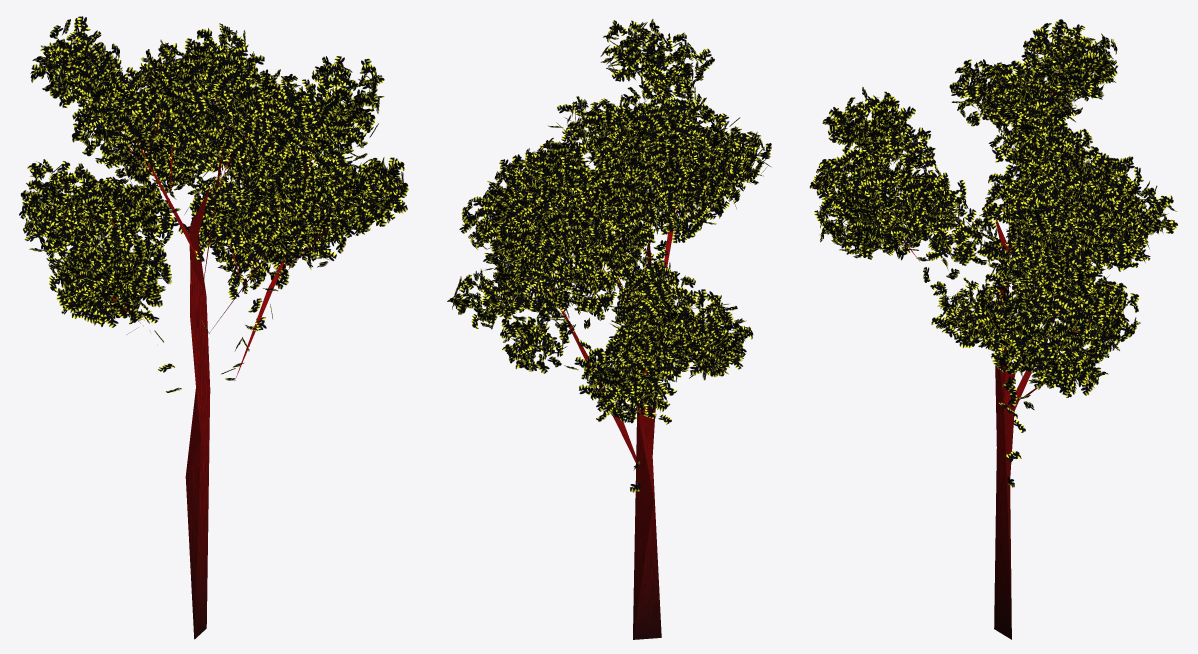
The model's file is cottonwood_river_v03_LOD1.glb.
3 views of the same model, side by side, from view 1: azimuth 30°, elevation 25°; view 2: azimuth 150°, elevation 25°; view 3: azimuth 270°, elevation 25° (orthographic). The views are drawn at different scales.
Visible parts, largest first — view 1: cottonwood_river_v03_LOD1; view 2: cottonwood_river_v03_LOD1; view 3: cottonwood_river_v03_LOD1.
Part boxes in pixels (x1,y1,x2,y2): cottonwood_river_v03_LOD1: (19, 16, 408, 639); cottonwood_river_v03_LOD1: (447, 19, 771, 639); cottonwood_river_v03_LOD1: (809, 19, 1177, 639).
Size of the model in its own units: 21.43 by 37.44 by 22.33.
2 materials, 2 textured.
